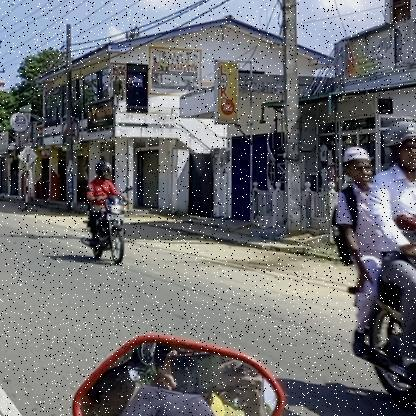motorcycle: (344, 236, 416, 416), (79, 195, 131, 269)
